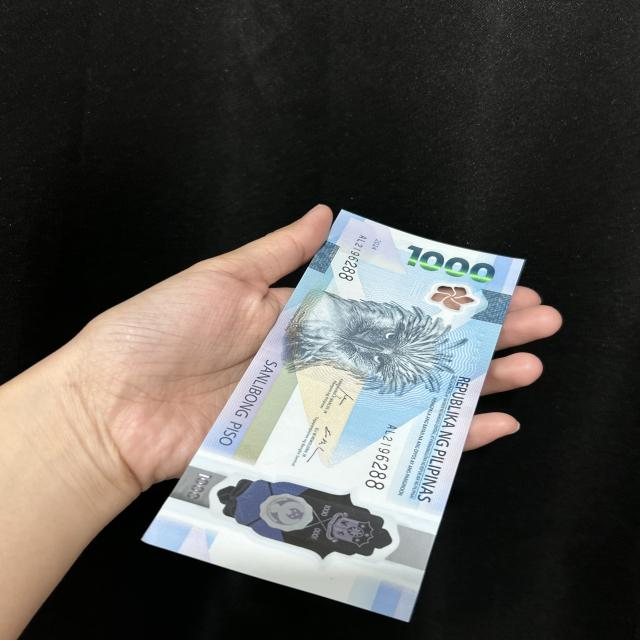clear_window: (203, 470, 408, 568)
eagle: (282, 291, 442, 387)
sampaguita: (433, 285, 470, 310)
serial_number: (366, 413, 400, 492), (332, 228, 370, 288)
